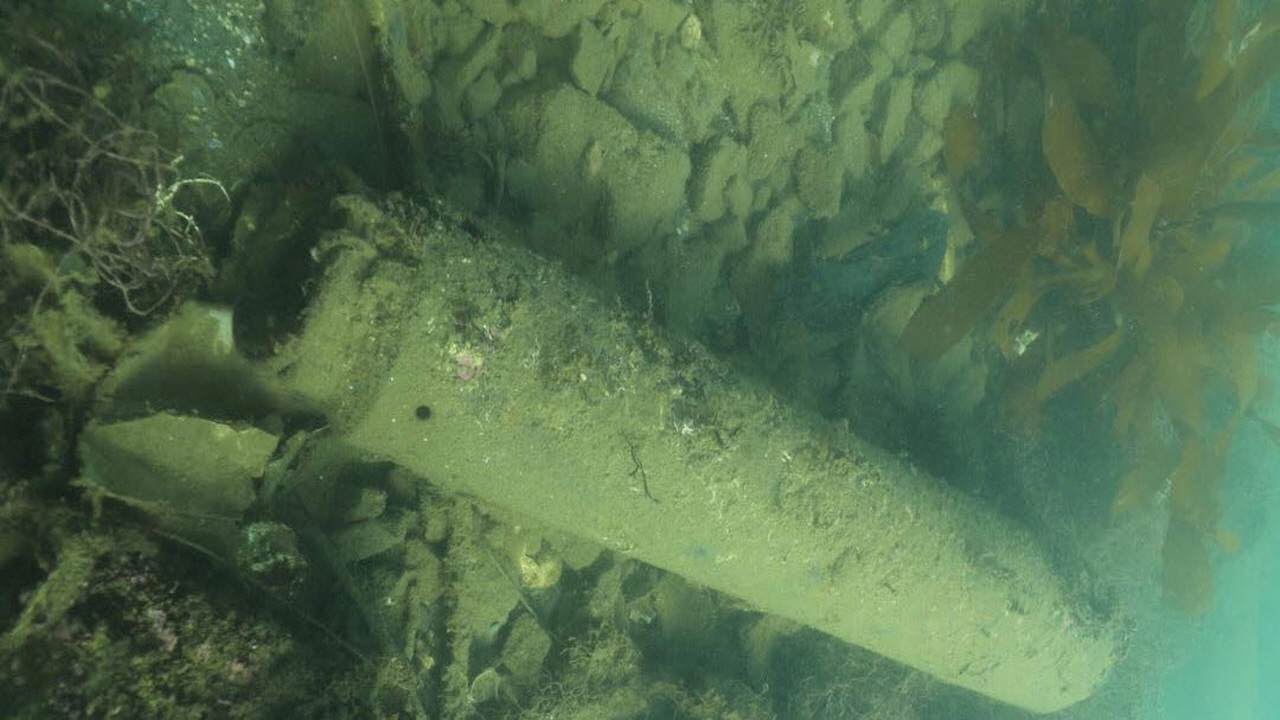eel fish trap: (231, 190, 1114, 716)
